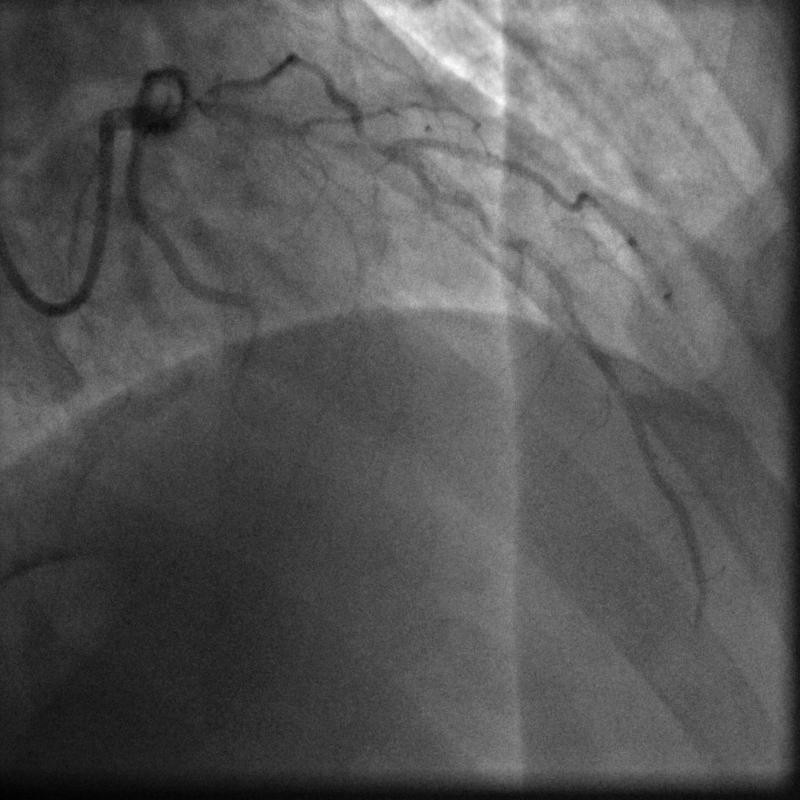Stenosis: (301, 124, 400, 157)
